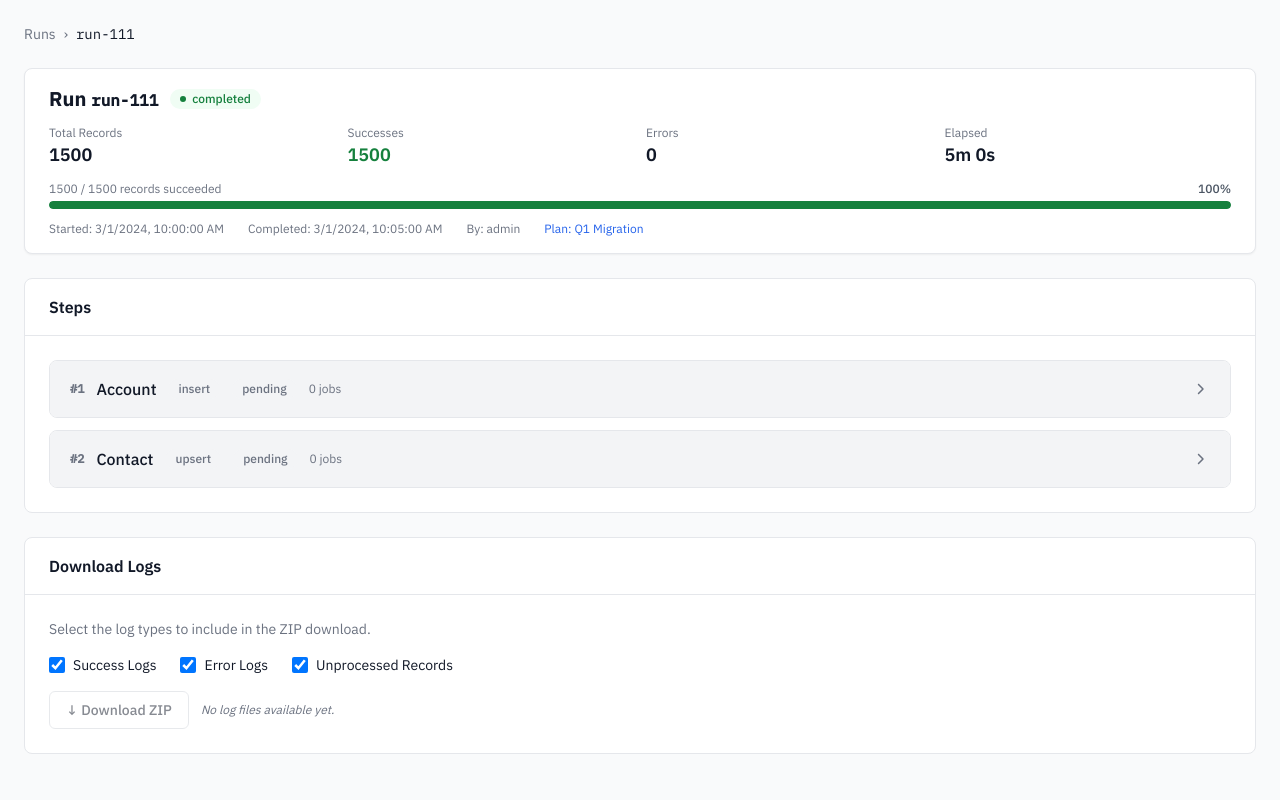
it: RunDetail › shows "No jobs started yet" for a step with no jobs after expansion
Click the button with aria-label "Step 1: Account" at (126, 389), box [70,377,1178,401]
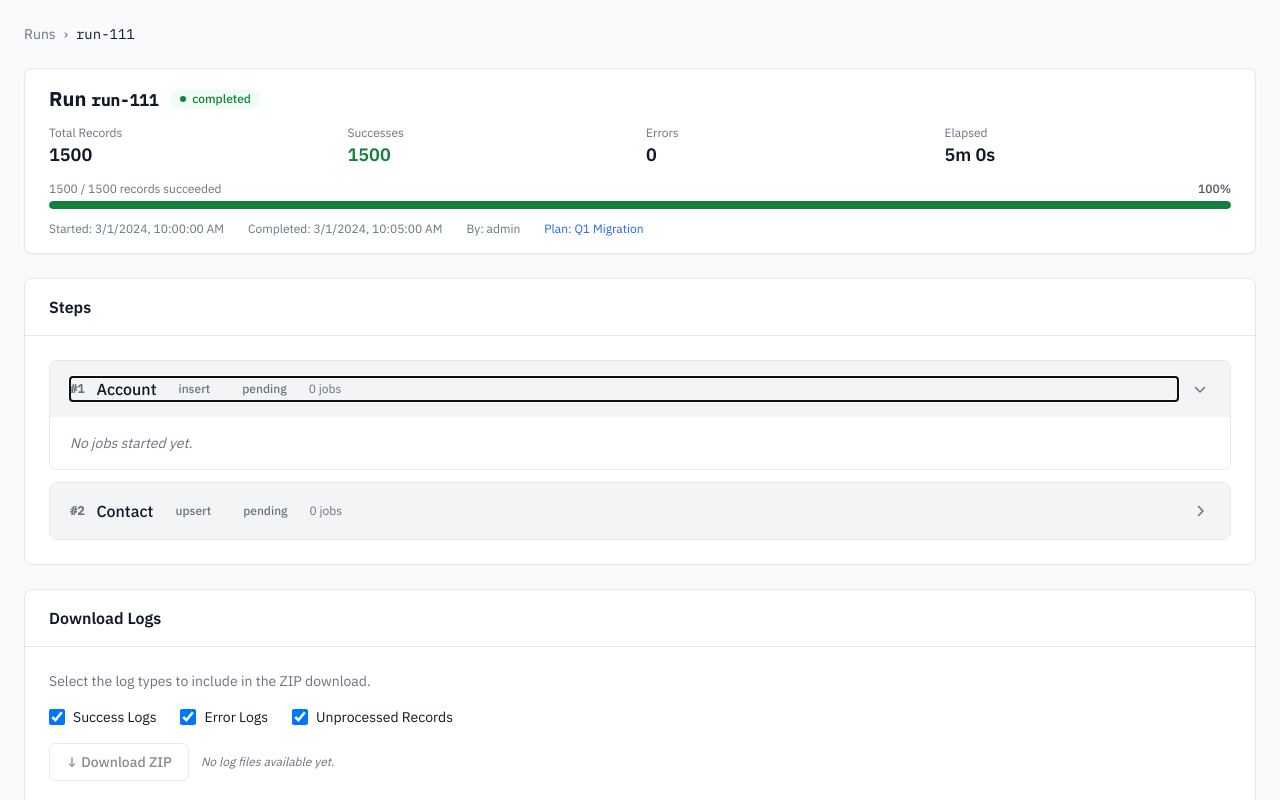
expect the text "No jobs started yet." is shown: met, box [70,434,192,452]
